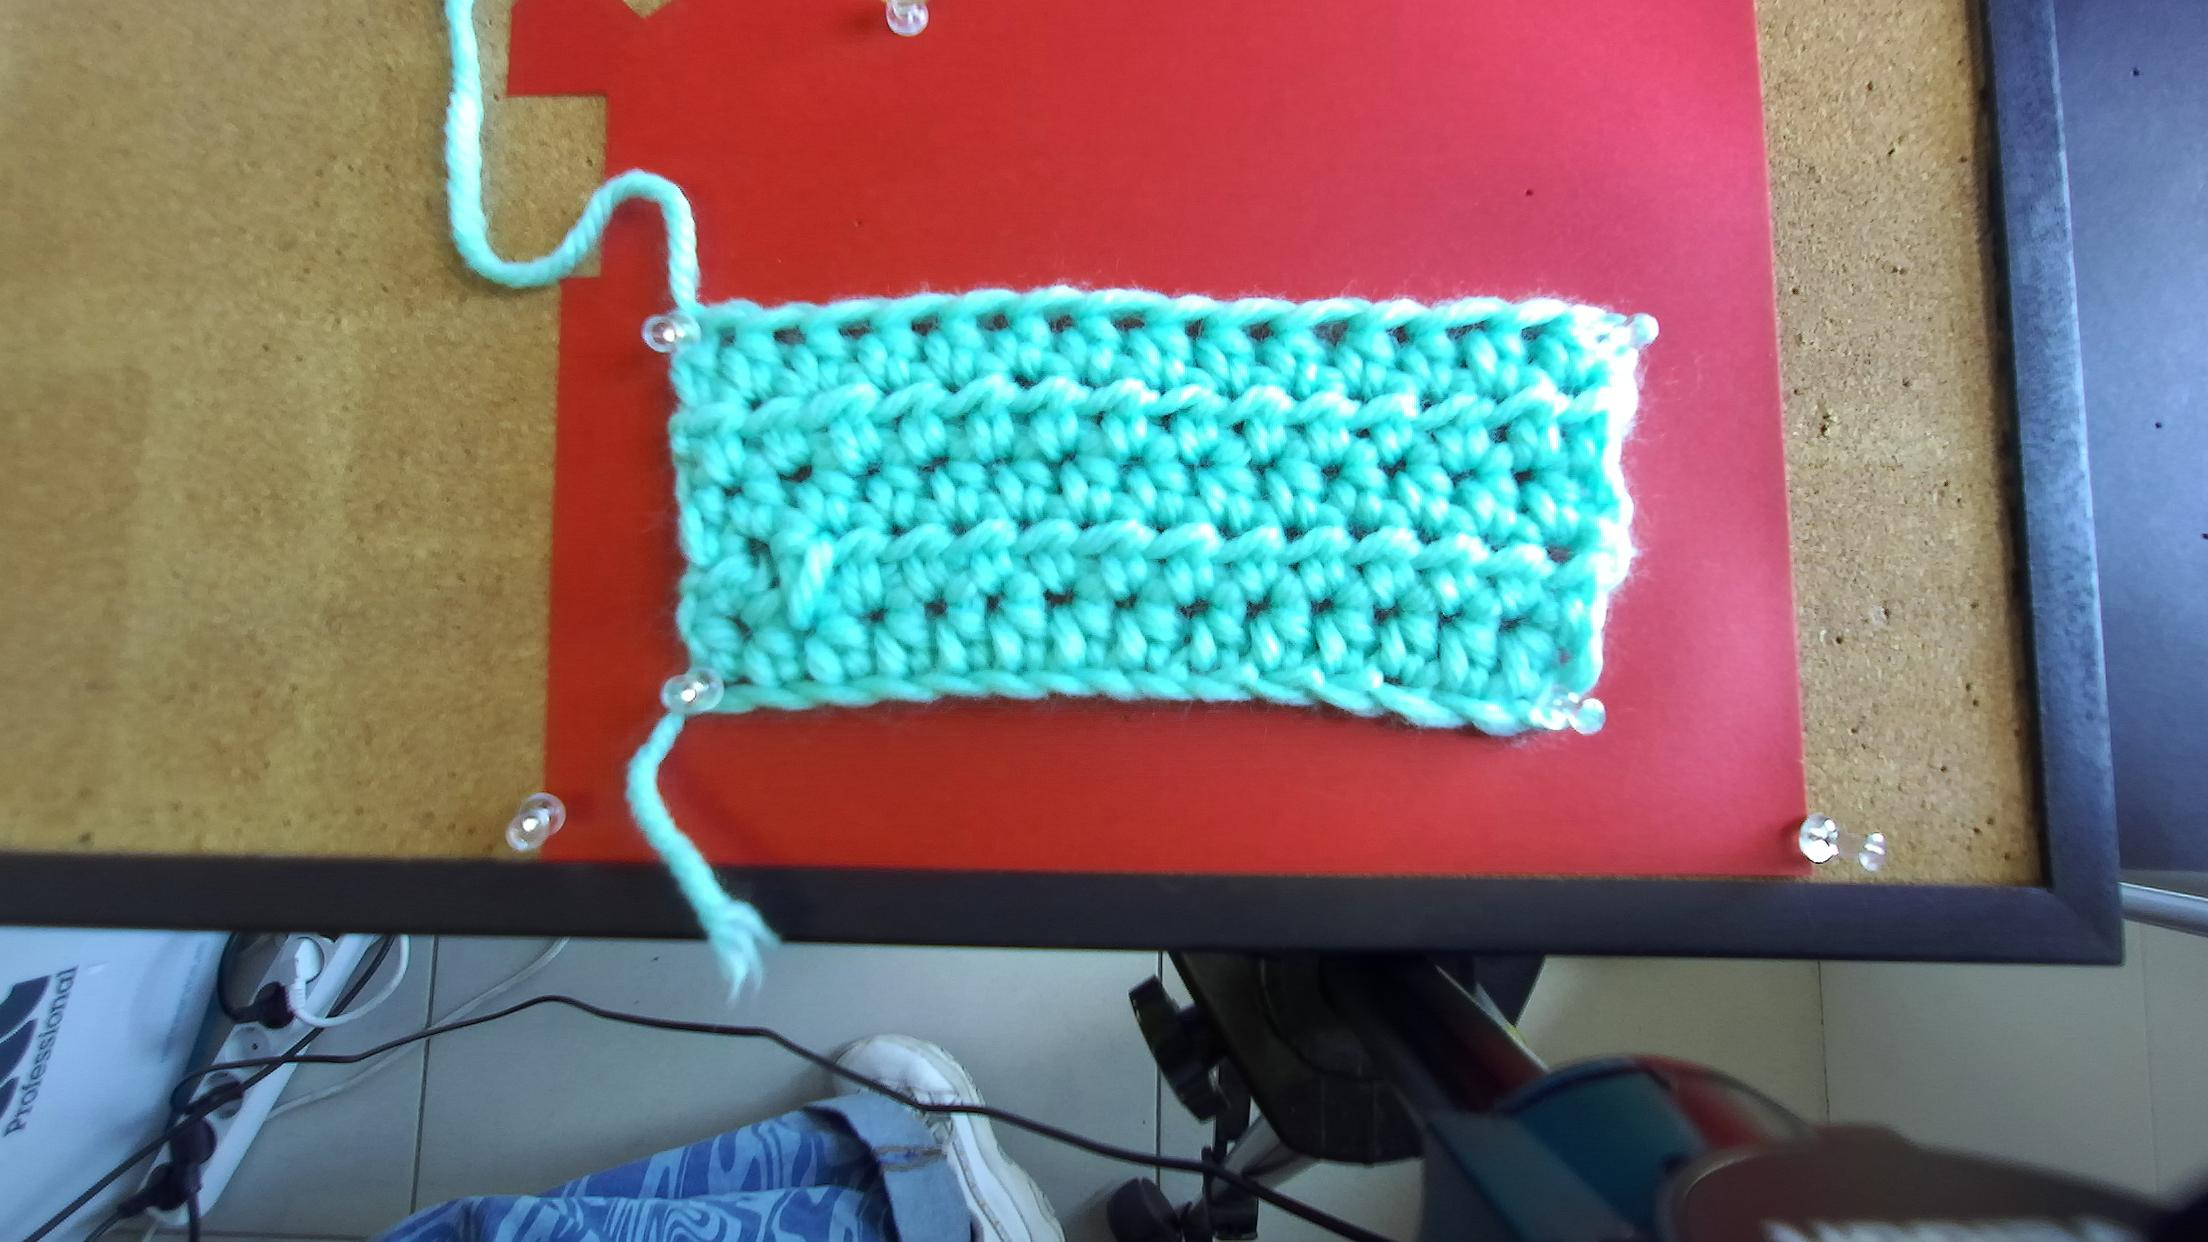hole: (1304, 315, 1351, 349), (1444, 315, 1491, 346), (836, 318, 875, 341), (1242, 317, 1274, 343), (975, 309, 1010, 332), (1383, 323, 1413, 349), (770, 325, 807, 346), (1110, 314, 1145, 335), (1046, 312, 1077, 335), (1181, 315, 1206, 341), (1516, 325, 1548, 343), (911, 317, 942, 335), (716, 329, 737, 352)
swatch: (646, 293, 1658, 742)
